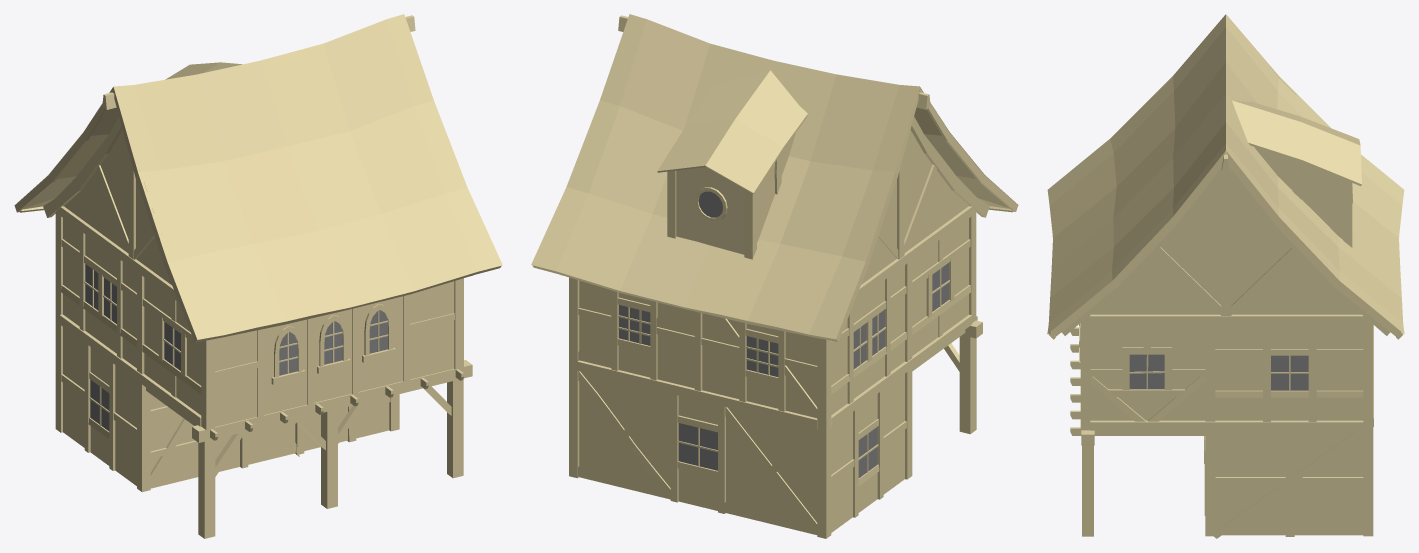
Rendered from TallHouse.fbx.
3 renders of one model, left to right at view 1: azimuth 30°, elevation 25°; view 2: azimuth 150°, elevation 25°; view 3: azimuth 270°, elevation 25°, orthographic. The views are drawn at different scales.
Parts seen in each view (by area): view 1: building townhouse; view 2: building townhouse; view 3: building townhouse.
Boxes of the visible parts, x1,y1,x2,y2 form: building townhouse: (14, 14, 502, 538); building townhouse: (531, 14, 1018, 538); building townhouse: (1047, 14, 1404, 538).
Bounding box in the file's own units: 826 × 1042 × 852.
